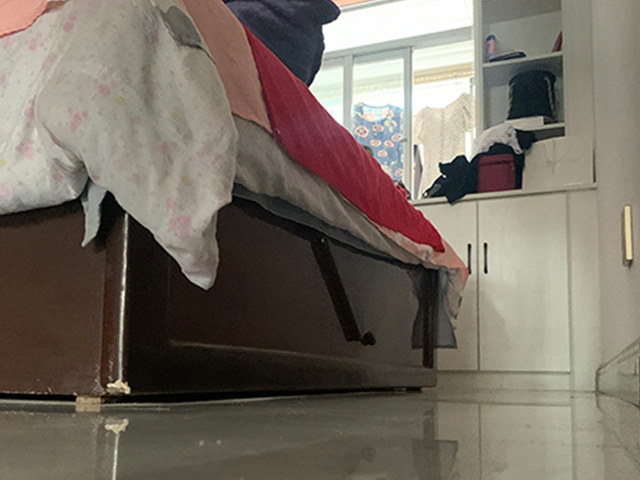bed: (1, 1, 470, 406)
cabinet: (411, 183, 600, 392)
